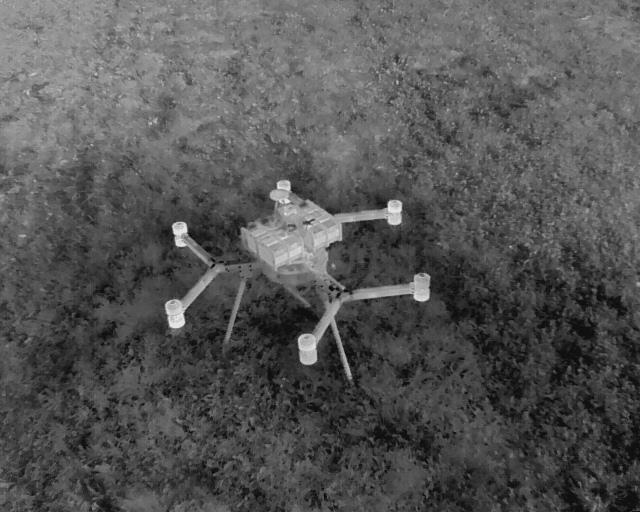drone: (130, 166, 452, 386)
